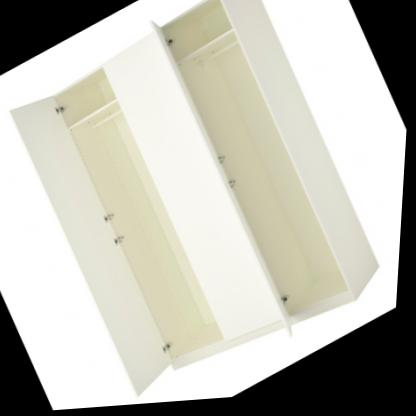Cabinet: (0, 0, 413, 416)
